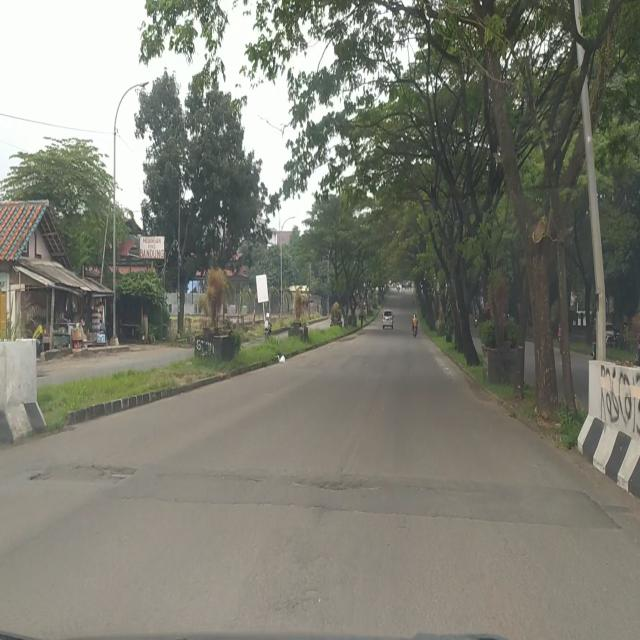Drain Hole: (28, 467, 136, 484)
Sewer Cover: (160, 468, 478, 496)
